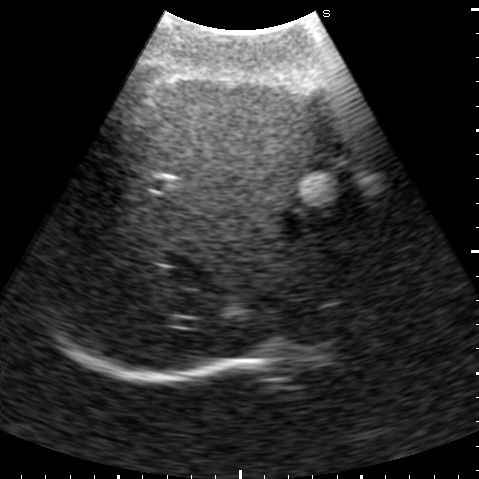S5: (122, 79, 347, 190)
S7: (33, 152, 173, 325)
S8: (96, 185, 376, 371)
Tumor: (297, 171, 337, 204)
